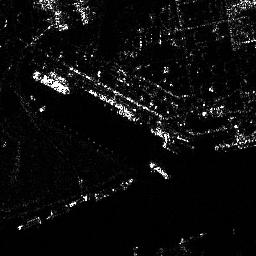ship: (31, 69, 70, 95), (148, 160, 168, 180)
